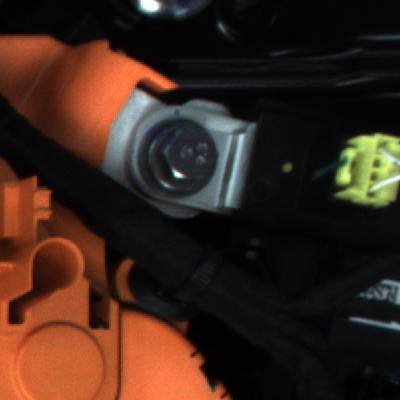nut_b: (134, 109, 225, 205)
